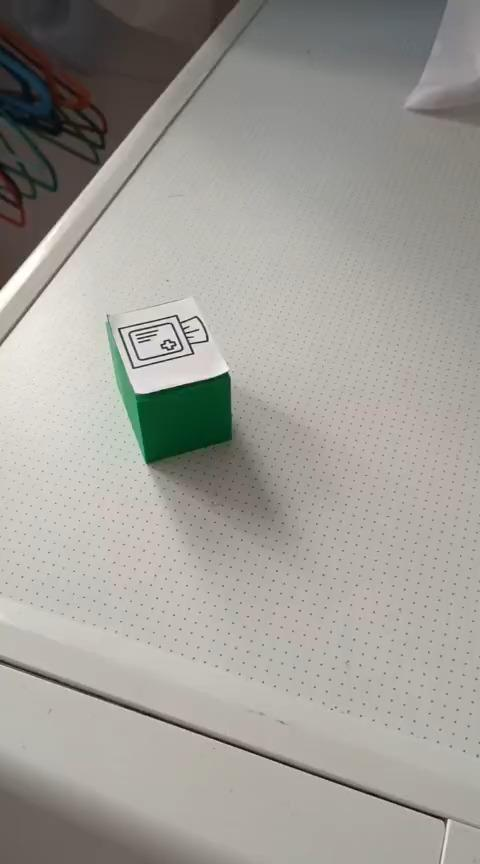Gauze: (104, 295, 233, 465)
